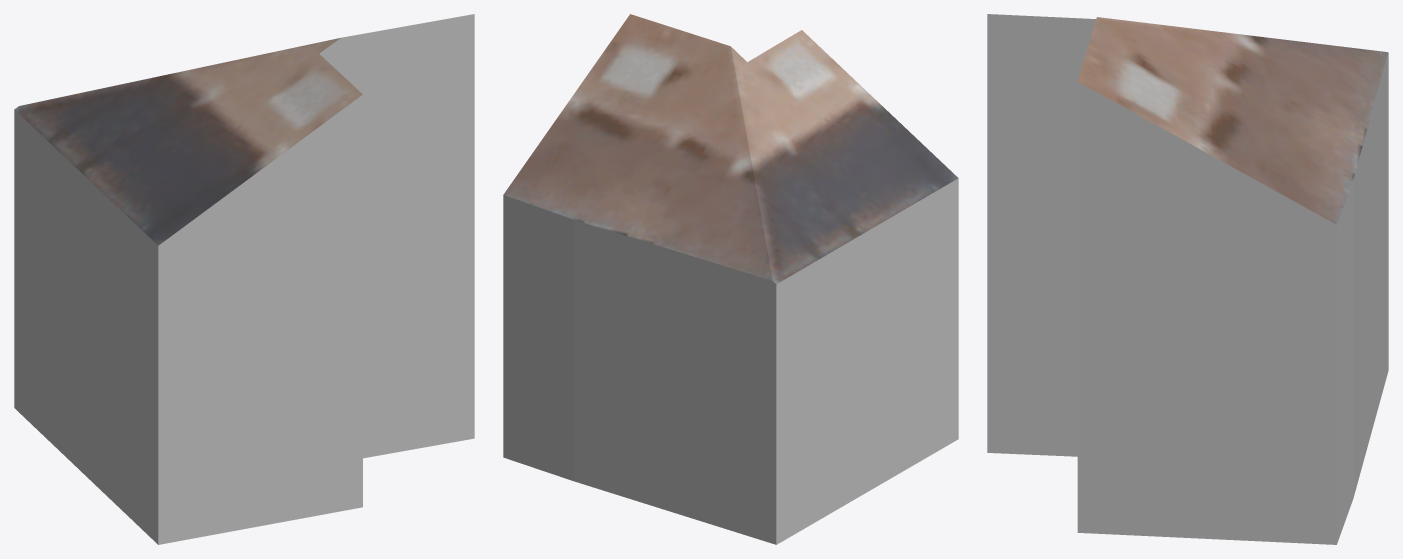
Rendered from DEBW_0010007Txhx.gltf.
The picture shows the model from 3 angles, left to right: view 1: azimuth 30°, elevation 25°; view 2: azimuth 150°, elevation 25°; view 3: azimuth 270°, elevation 25°; orthographic projection. The views are drawn at different scales.
Parts seen in each view (by area): view 1: Z_UP; view 2: Z_UP; view 3: Z_UP.
Part boxes in pixels (bbox=[...]): Z_UP: bbox=[14, 14, 474, 544]; Z_UP: bbox=[503, 14, 958, 544]; Z_UP: bbox=[987, 14, 1388, 544].
Size of the model in its own units: 18.17 by 19.94 by 16.08.
Materials: 2 (1 with a texture image).
